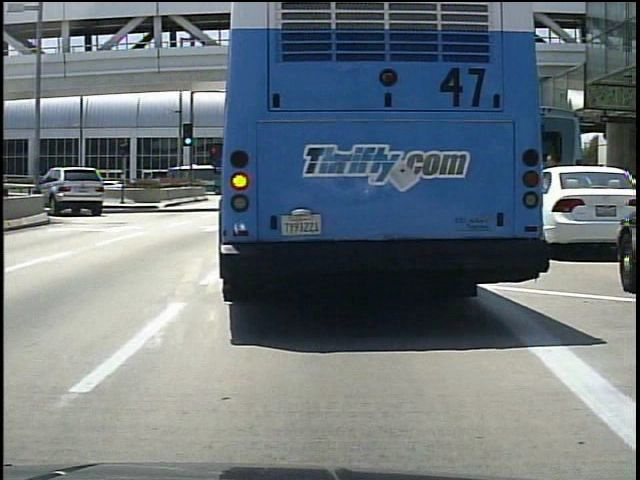person: (540, 152, 563, 241)
